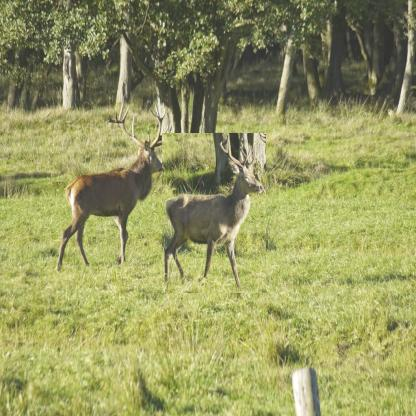Deer: (56, 101, 172, 271), (162, 134, 266, 294)
